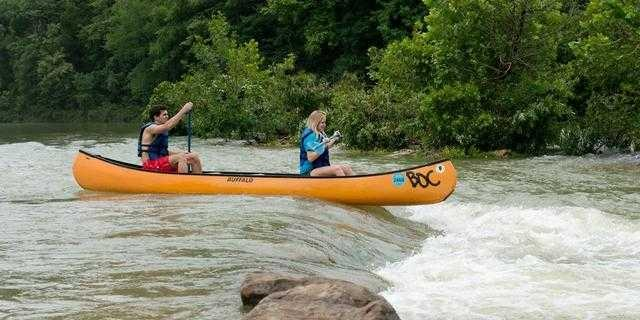kayak: (72, 151, 457, 206)
